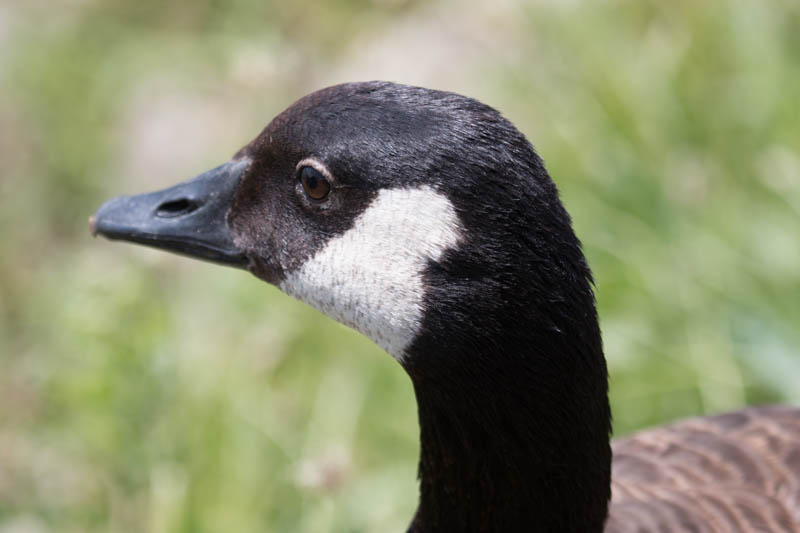goose-head: (90, 80, 608, 377)
